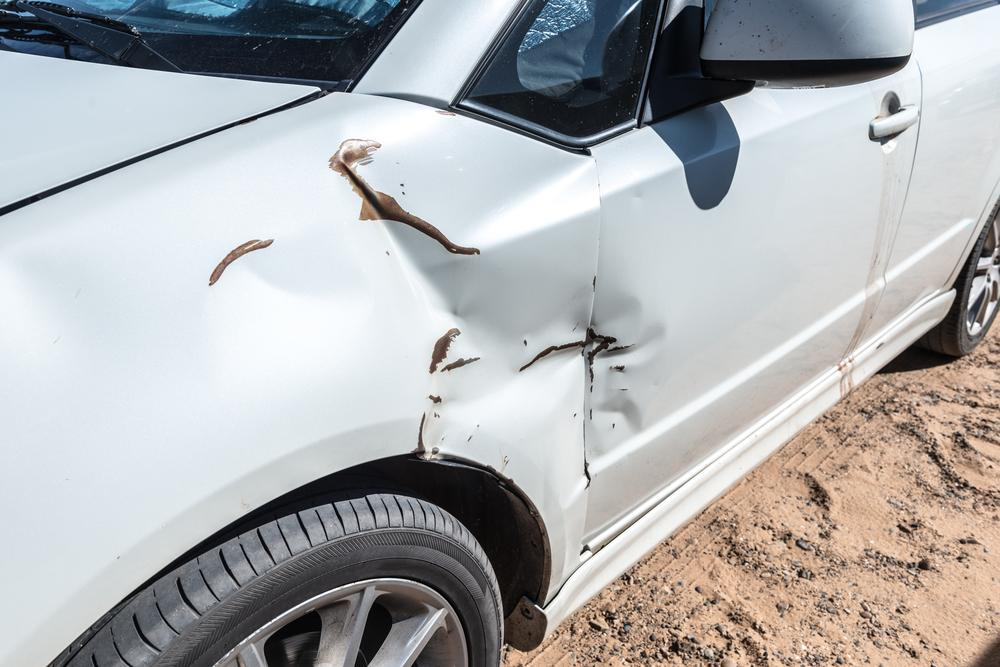dent: (210, 114, 594, 529), (584, 292, 664, 468)
